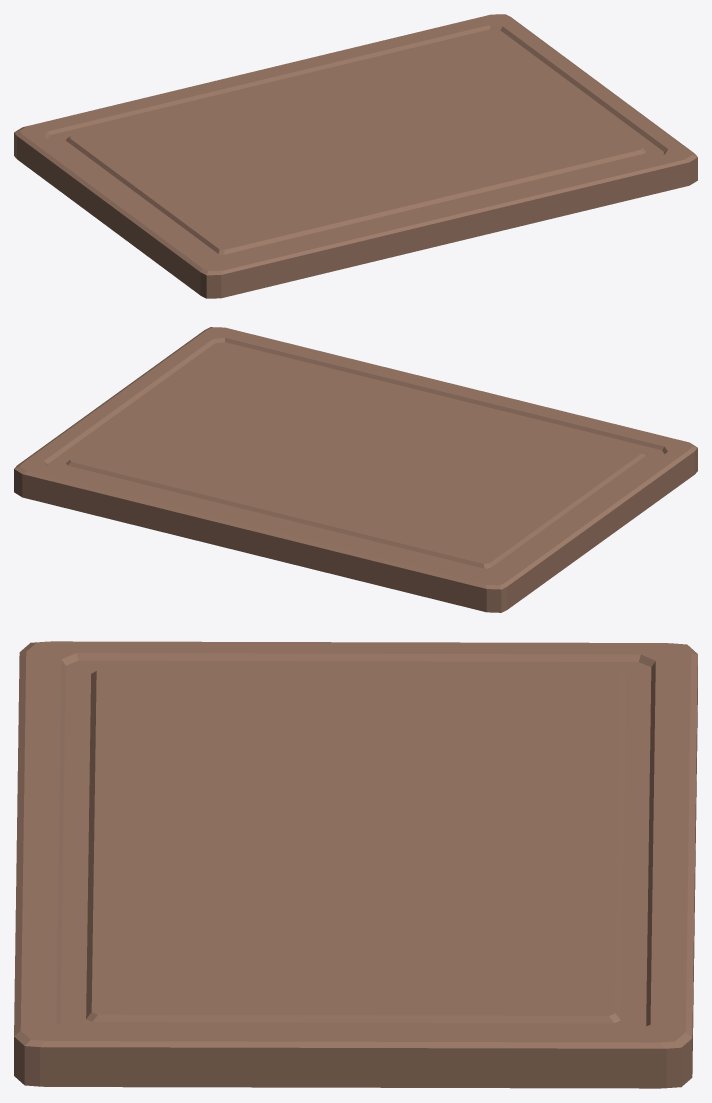
File: choppingBoard.fbx
The picture shows the model from 3 angles, top to bottom: view 1: azimuth 30°, elevation 25°; view 2: azimuth 150°, elevation 25°; view 3: azimuth 270°, elevation 25°; orthographic projection. The views are drawn at different scales.
Parts seen in each view (by area): view 1: choppingBoard; view 2: choppingBoard; view 3: choppingBoard.
Part boxes in pixels (x1,y1,x2,y2): choppingBoard: [14, 14, 697, 298]; choppingBoard: [14, 327, 697, 612]; choppingBoard: [14, 641, 697, 1088].
Bounding box in the file's own units: 7.12 × 0.375 × 5.06.
Materials: 1 (1 with a texture image).
